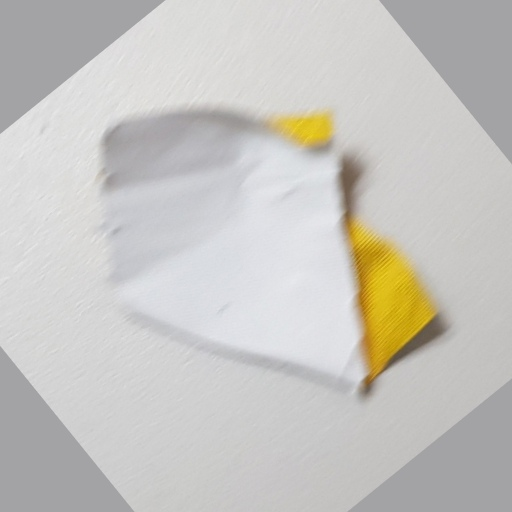Paper_3: (85, 90, 442, 400)
